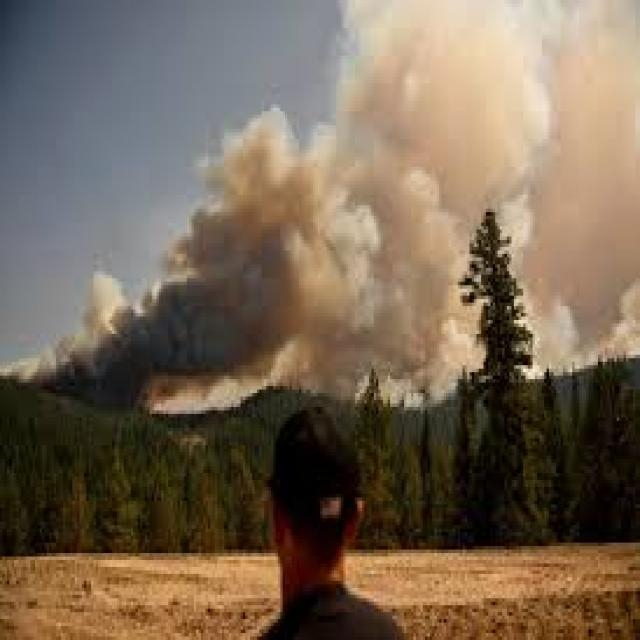Smoke: (21, 0, 640, 416)
